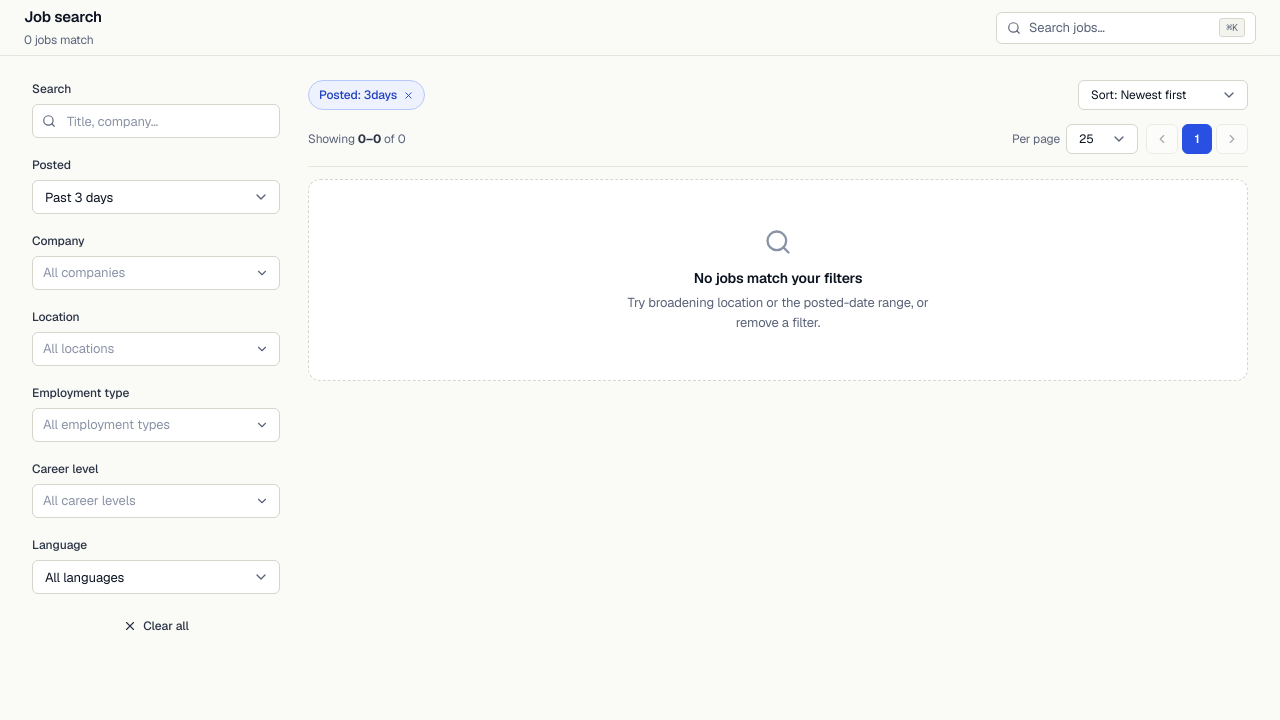
Test case: FE-FA-06 opening a different dropdown discards the previous dropdown's pending edits (AC-F05) › opening Location while Career level has pending edits discards Career level's pending with no refetch
Click the text "All career levels". click: (89, 501)
box: [43,492,136,509]
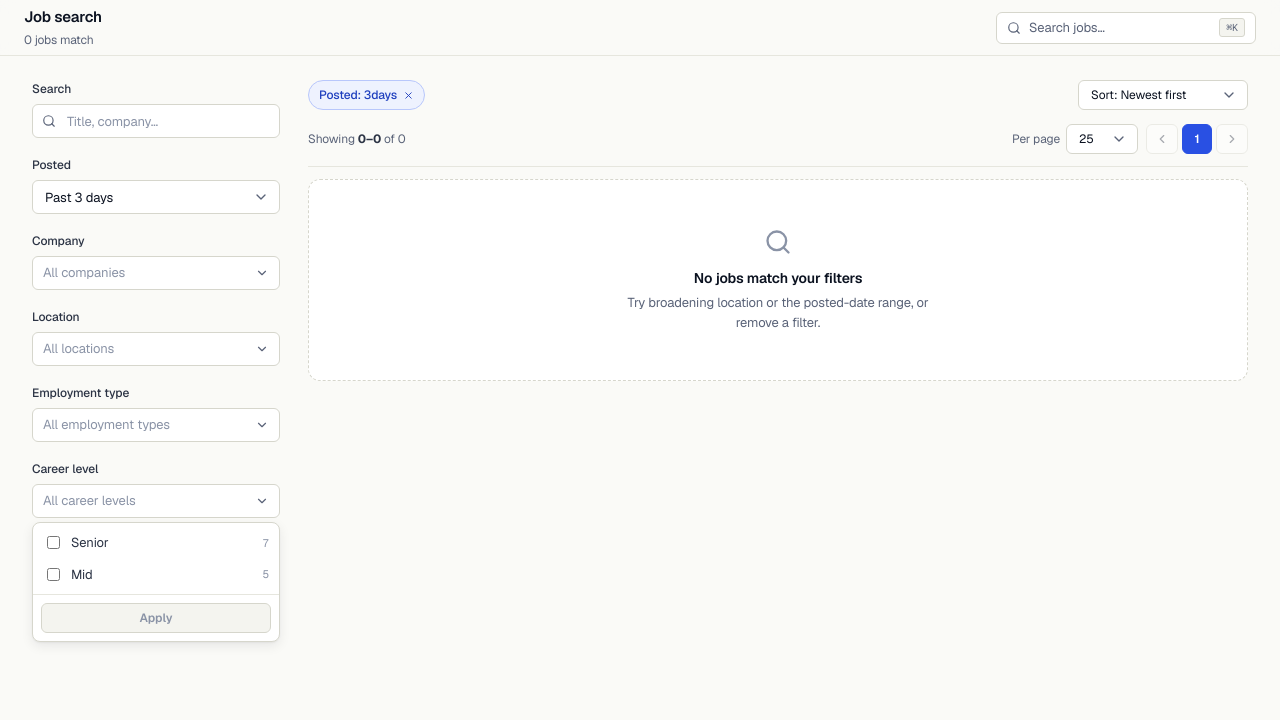
Expected: the text "Senior" is shown
Click the text "Senior". click: (90, 542)
box: [71,534,108,551]
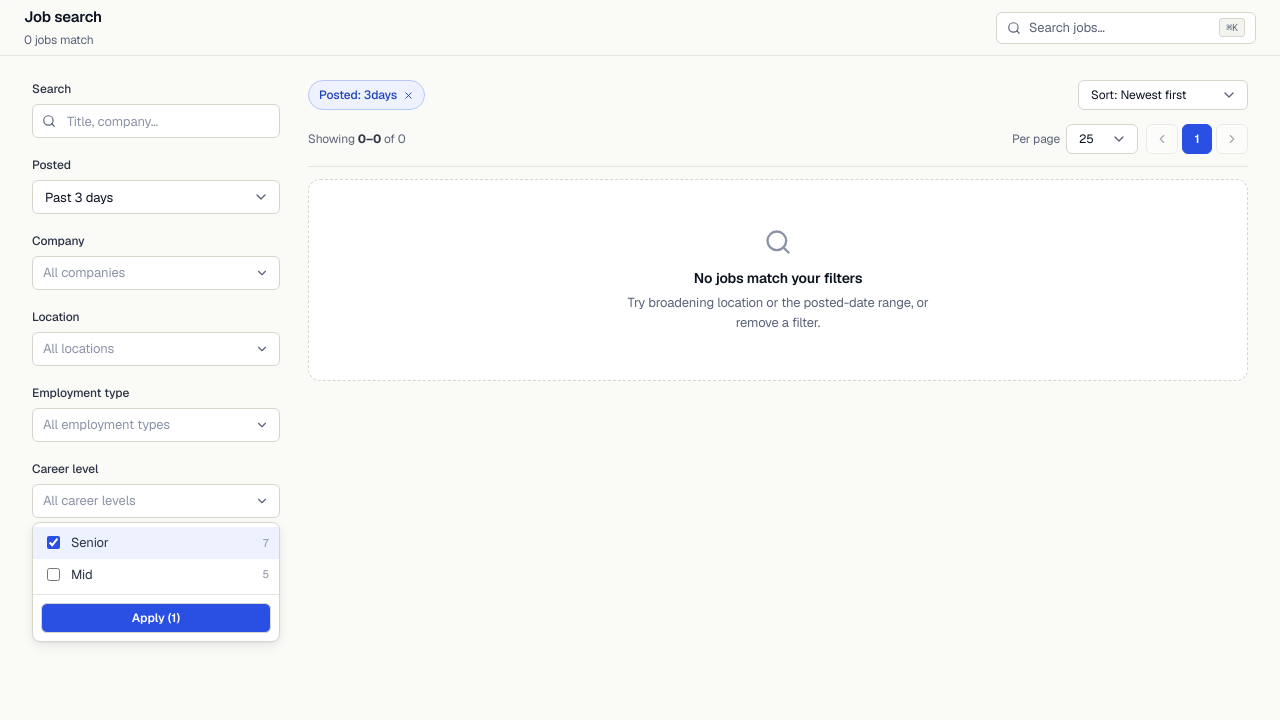
Expected: the checkbox next to "Senior" is checked, [47,536,60,549]
Click the text "All locations". click: (79, 349)
box: [43,340,114,357]
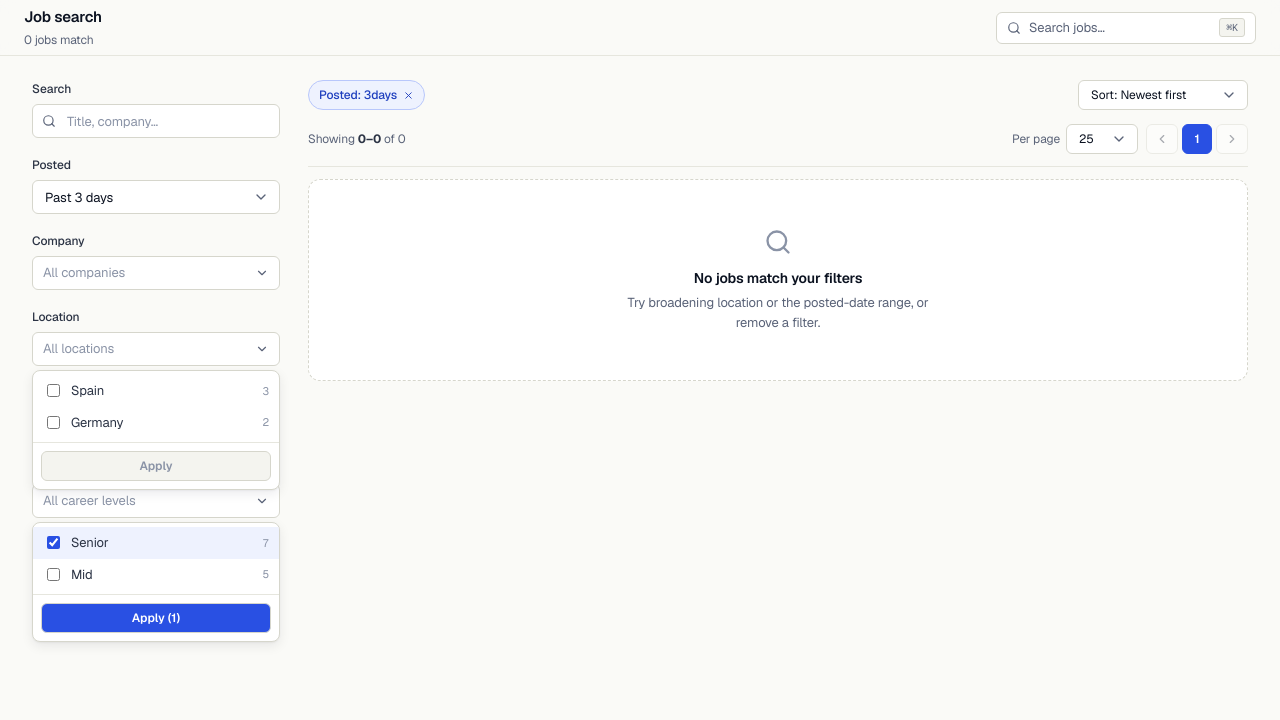
Expected: the text "Spain" is shown, [71,382,104,399]
Expected: the checkbox next to "Spain" is not checked, [47,384,60,397]
Expected: the checkbox next to "Germany" is not checked, [47,416,60,429]
